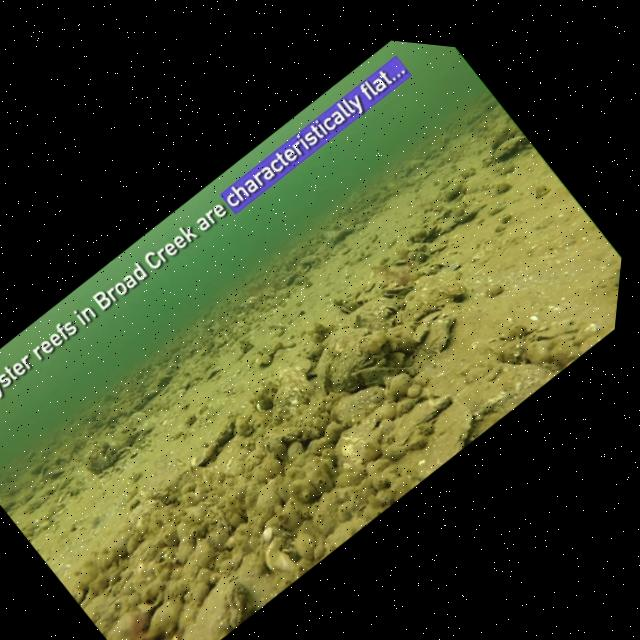Oyster-Closed: (391, 148, 433, 190)
Oyster-Indeterminate: (388, 385, 497, 493), (379, 242, 477, 340), (318, 396, 415, 494), (186, 559, 279, 640), (350, 332, 428, 410), (324, 367, 401, 444), (253, 370, 324, 442), (336, 280, 408, 351), (132, 447, 202, 517), (263, 349, 325, 412), (201, 425, 263, 488), (252, 524, 312, 584), (132, 583, 195, 640), (410, 306, 468, 365), (116, 487, 171, 542), (485, 125, 536, 176), (77, 433, 127, 484), (198, 409, 247, 458), (101, 600, 153, 640), (516, 328, 561, 373), (566, 320, 611, 364), (179, 437, 223, 481), (489, 334, 533, 378), (542, 331, 585, 374), (434, 169, 477, 212), (88, 595, 129, 636), (479, 114, 520, 155), (320, 214, 361, 255), (412, 249, 452, 289), (133, 582, 172, 620), (478, 271, 516, 310), (42, 451, 79, 488), (431, 209, 467, 246), (547, 317, 583, 353), (22, 450, 56, 484), (237, 283, 270, 317), (264, 282, 297, 315), (566, 316, 599, 349), (103, 415, 135, 449), (294, 243, 325, 274), (440, 195, 470, 226), (389, 246, 419, 277), (418, 232, 449, 262), (406, 220, 435, 249), (152, 367, 180, 396), (403, 232, 431, 260), (166, 385, 194, 412), (508, 317, 535, 345), (490, 174, 518, 201), (185, 362, 212, 389), (169, 371, 195, 397), (278, 265, 304, 291), (68, 581, 93, 607), (531, 178, 556, 203), (404, 244, 428, 268), (113, 431, 136, 453), (141, 383, 163, 406), (128, 393, 150, 415), (23, 445, 44, 466), (100, 387, 120, 407), (172, 384, 190, 401)
Oyster-Open: (298, 314, 390, 406), (125, 417, 157, 449), (116, 442, 134, 460)
